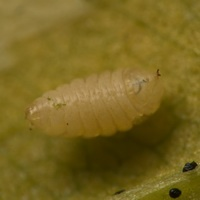insect: (26, 69, 163, 136), (183, 161, 196, 171), (169, 188, 180, 197), (156, 69, 160, 76)
